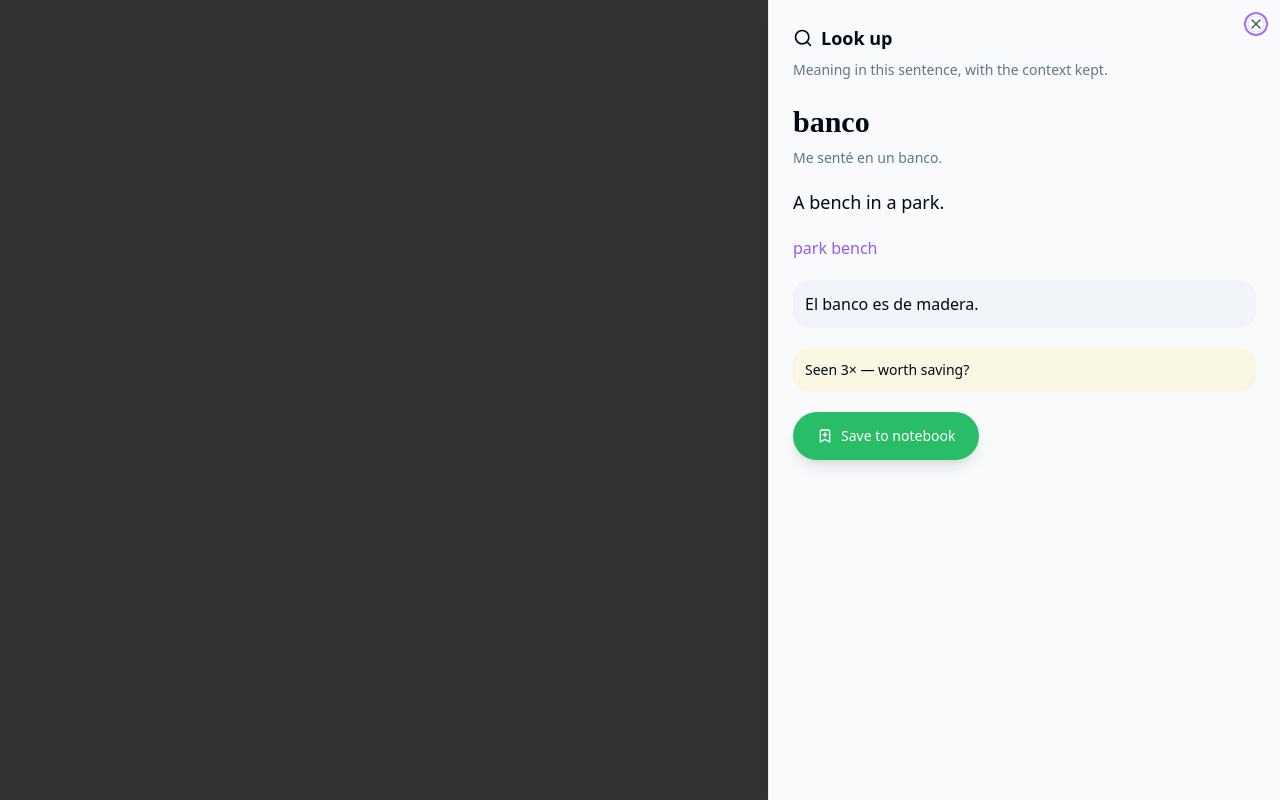
Test: LookupSheet triage › saves the cached lookup and offers Study / I know it / Ignore
Later steps or results of the test are not shown.
Expected: the text "Seen 3× — worth saving?" is shown, [793,348,1256,392]
Click the button "Save to notebook" at x=886, y=436, box [793,412,980,460]
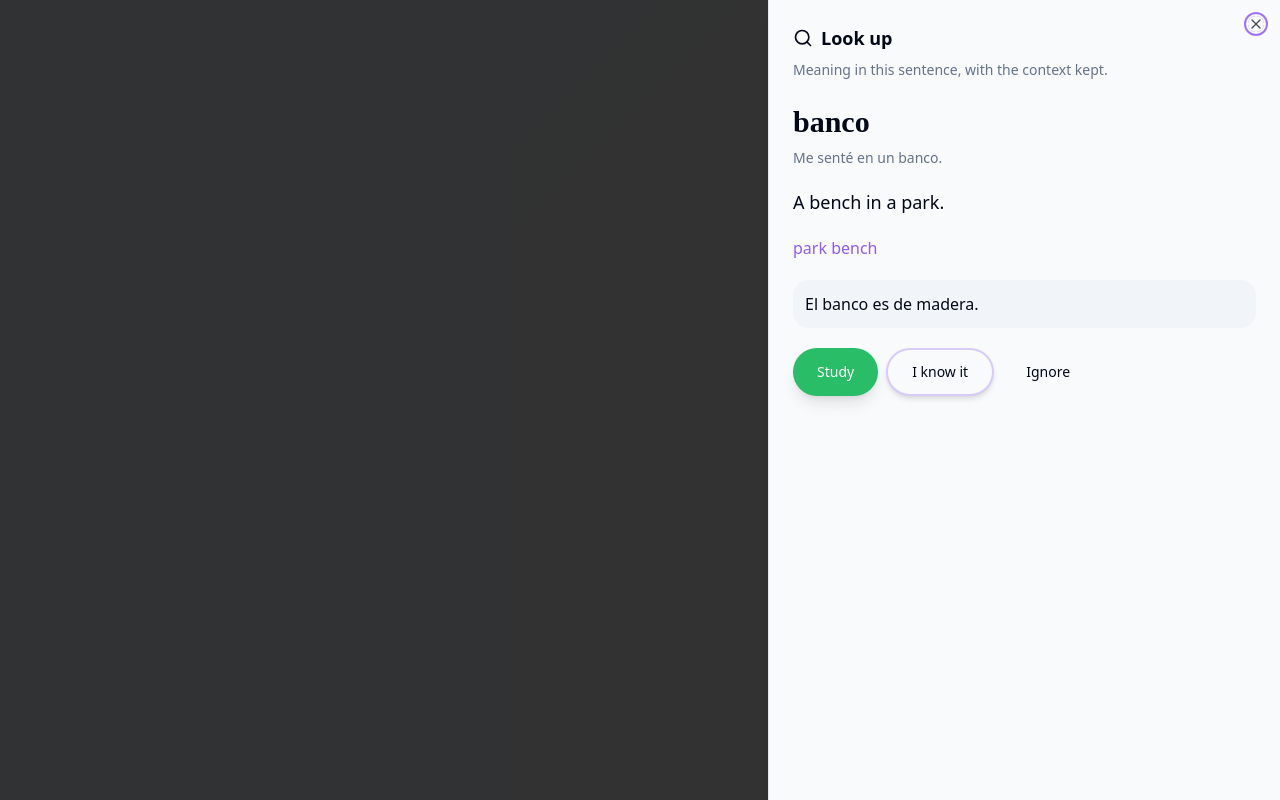
Expected: the button "I know it" is shown, [886,348,994,396]
Expected: the button "Ignore" is shown, [1002,348,1094,396]
